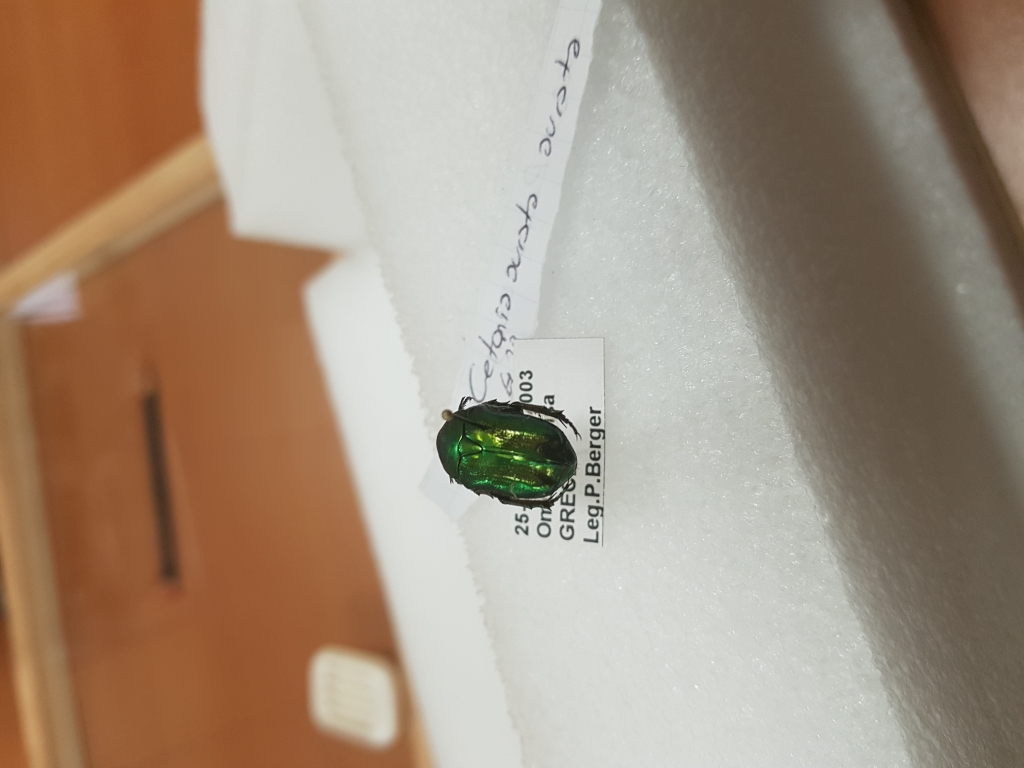Cetonia_aurata: (425, 398, 589, 521)
